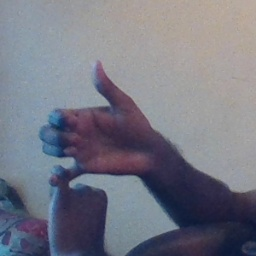S: (33, 57, 152, 223)
